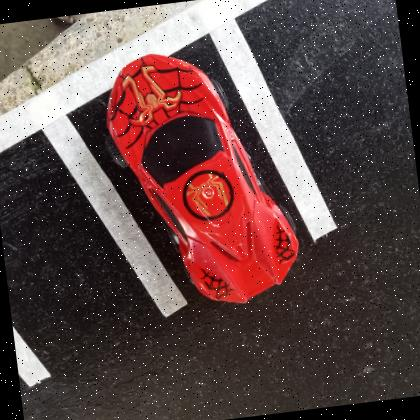Car: (105, 52, 300, 303)
